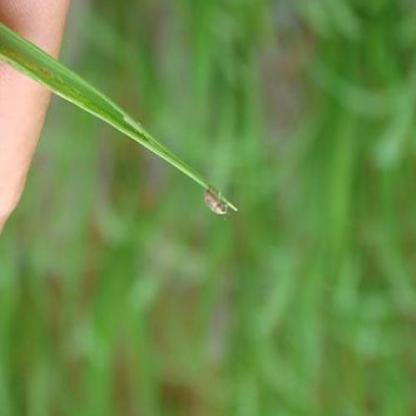rice-bug: (201, 185, 230, 216)
